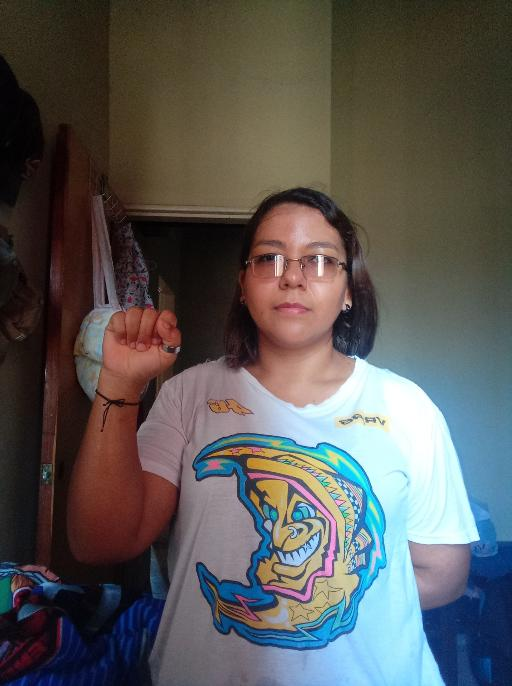fist: (100, 305, 180, 382)
